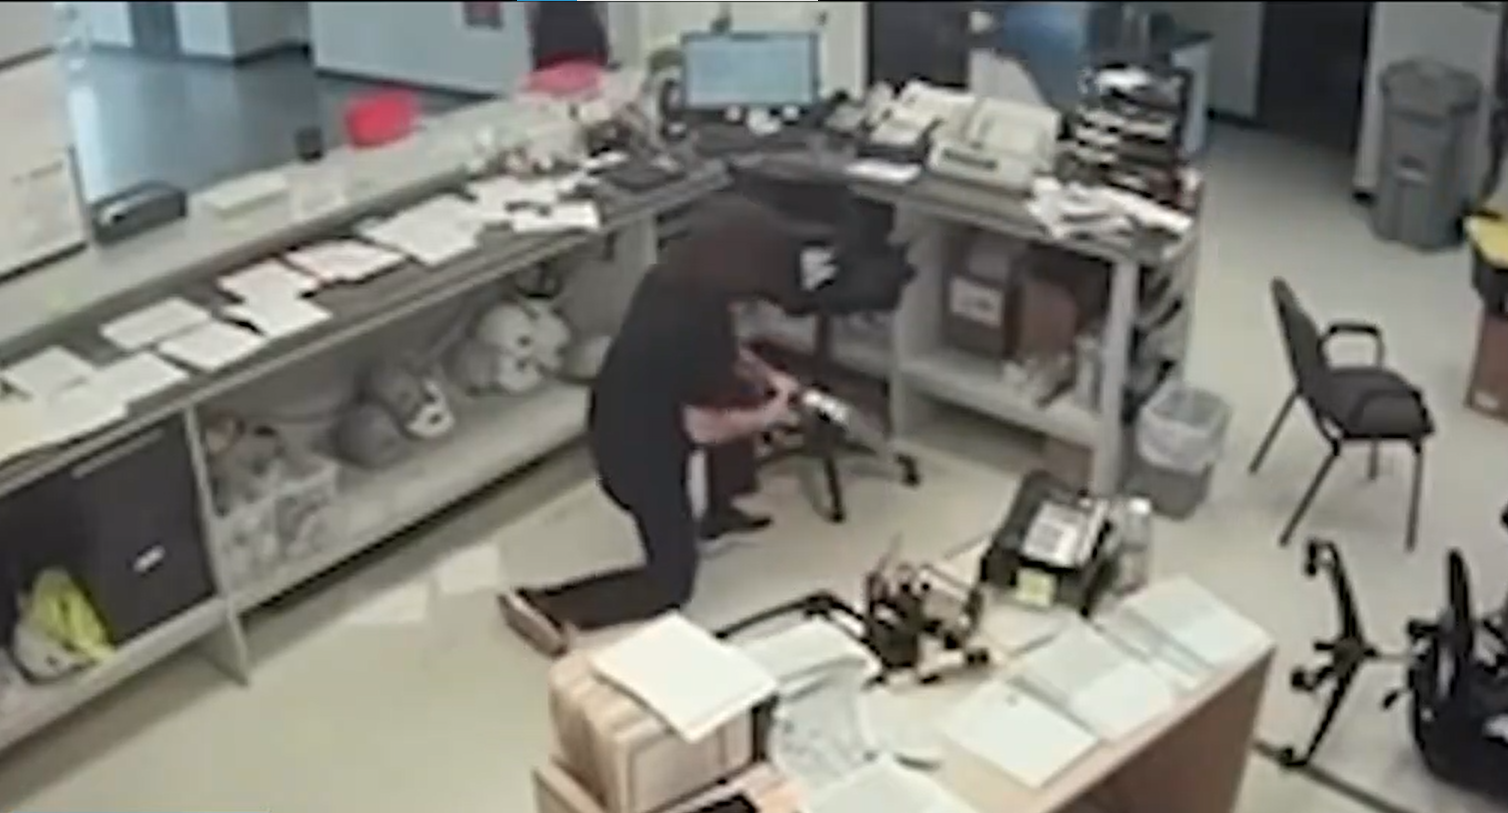knife: (799, 384, 912, 467)
knife in hand: (671, 351, 921, 473)
person: (591, 209, 792, 585)
